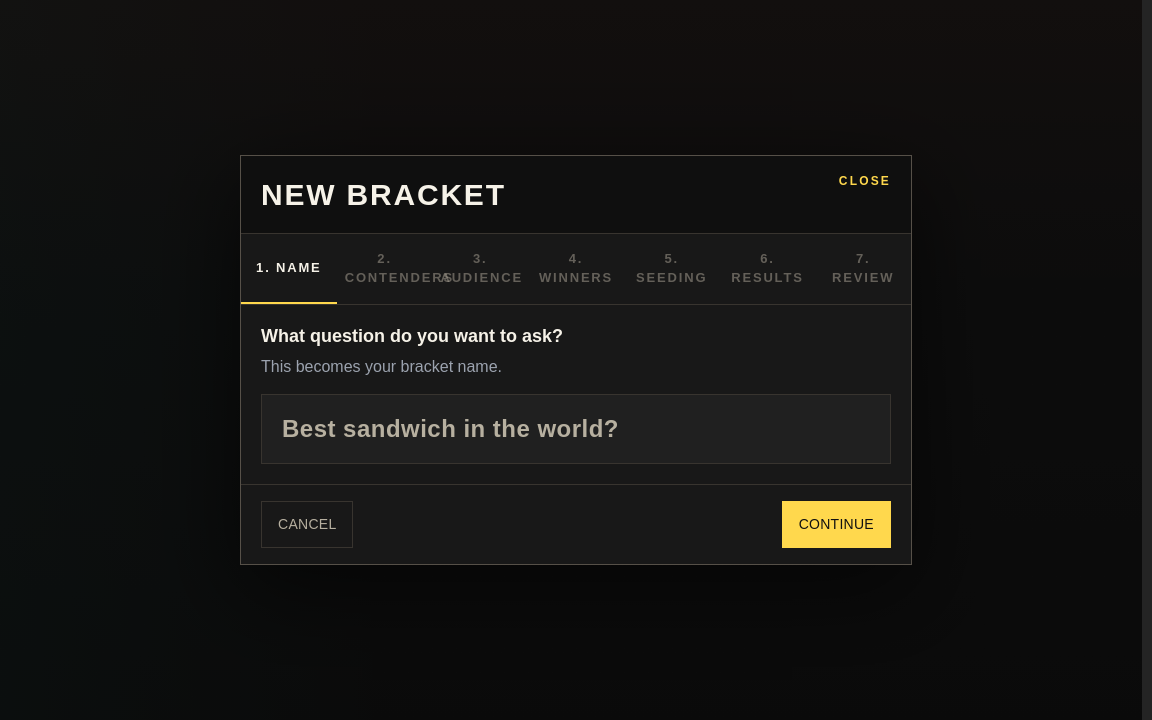
Test: bracket configuration wizard › shows voting effort estimates on the results step
This screenshot has width=1152, height=720.
Type "Dinner Finals" into the field with placeholder "Best sandwich in the world?".
click(576, 429); type("Dinner Finals")  # box [261,394,891,464]
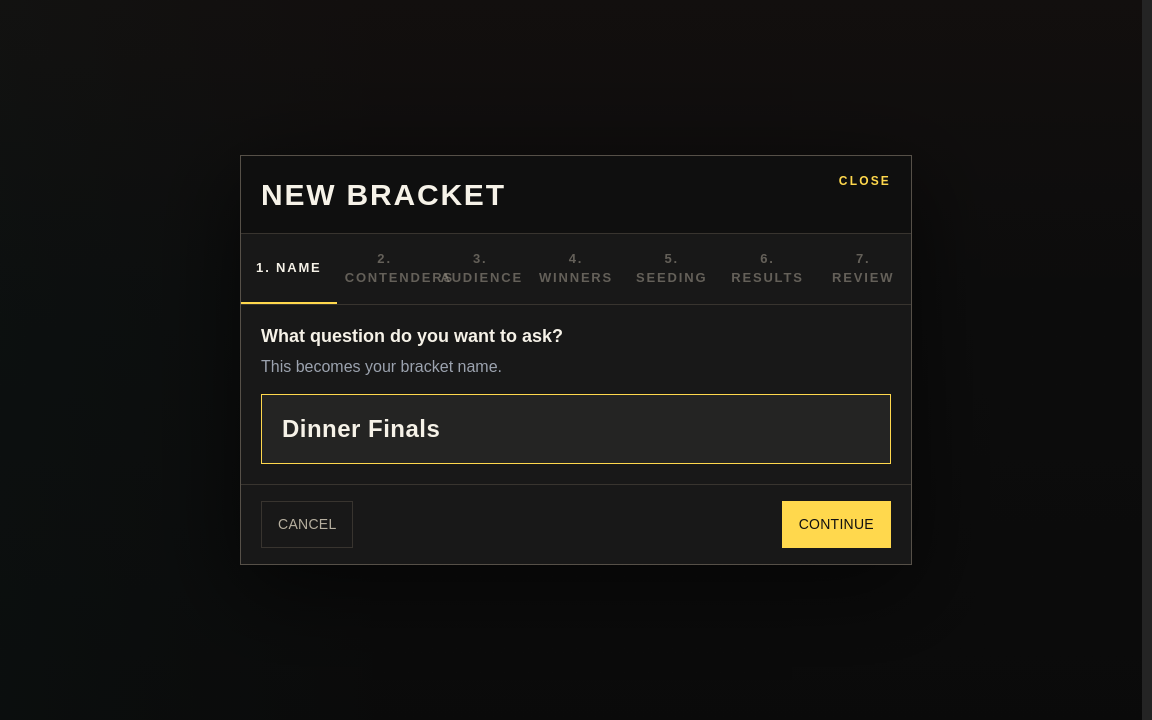
Click the button "Continue".
click(836, 524)  # box [782,501,891,548]
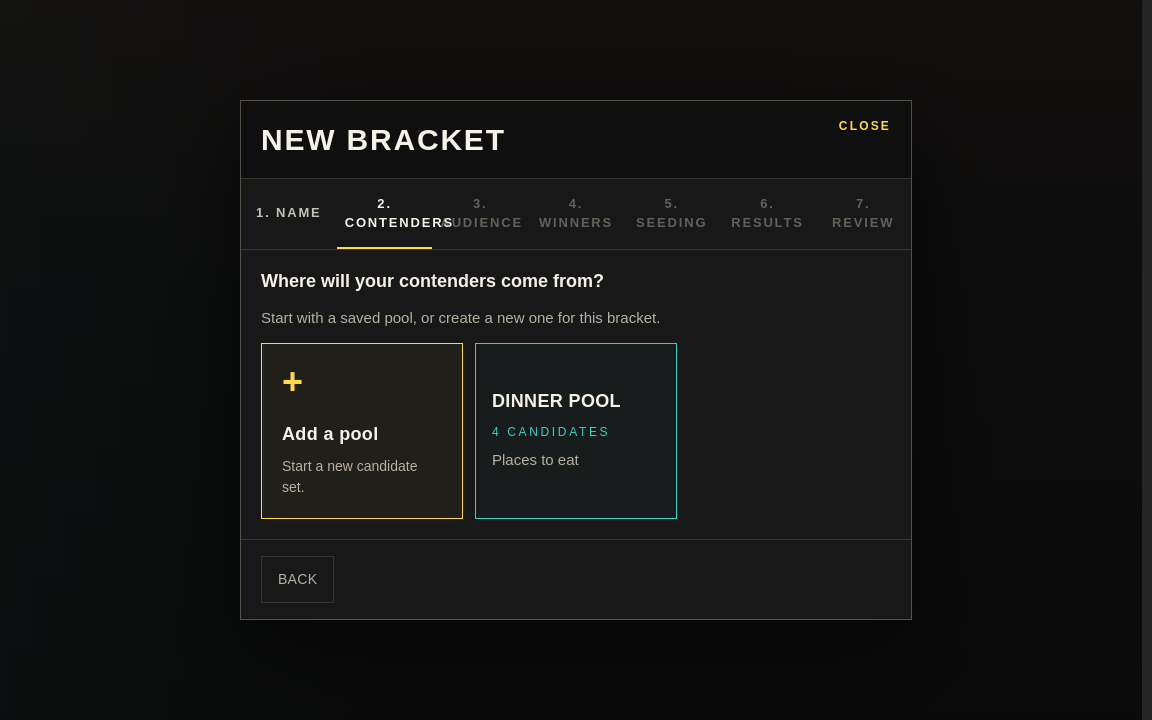
Click the button "Dinner Pool 4 candidates Places to eat".
click(576, 431)  # box [475,343,677,519]
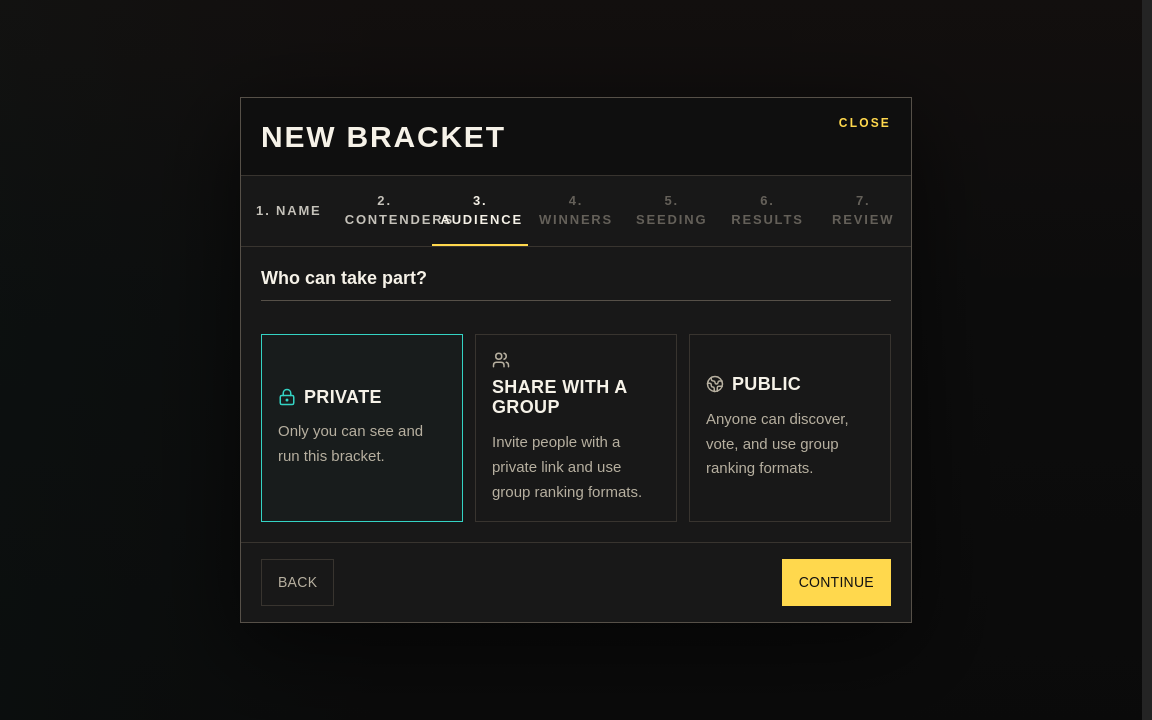
Click the button "Continue".
click(836, 582)  # box [782,559,891,606]
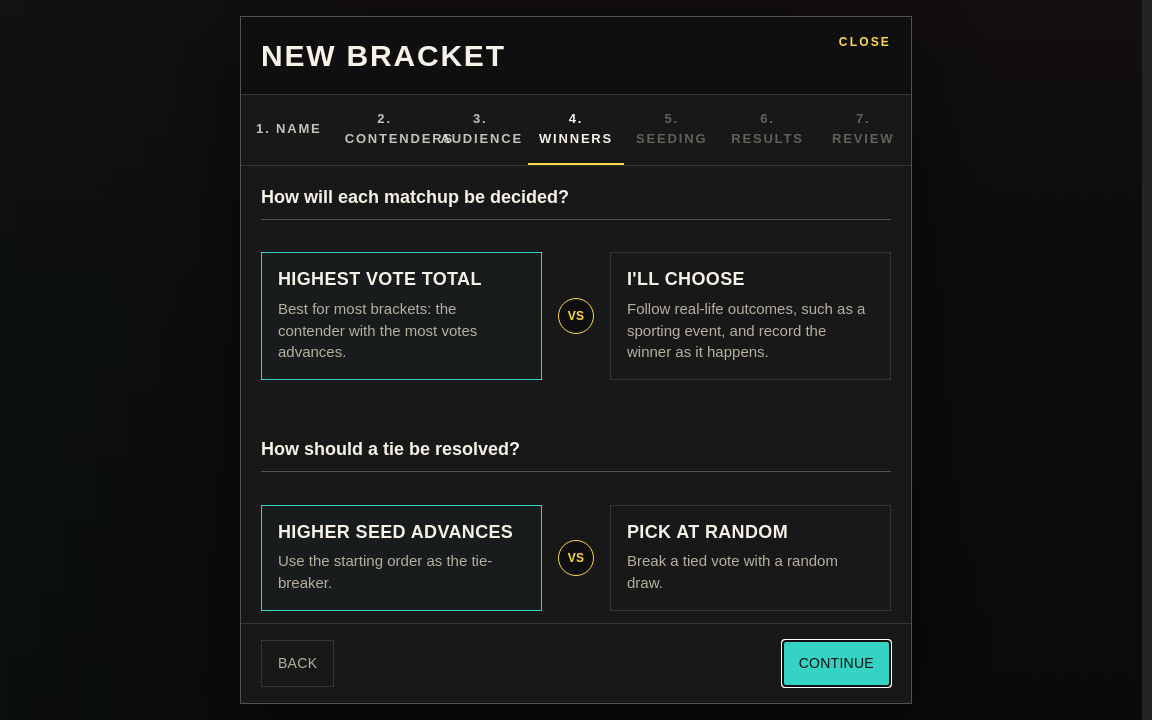
Click the button "Continue".
click(836, 664)  # box [782,640,891,687]
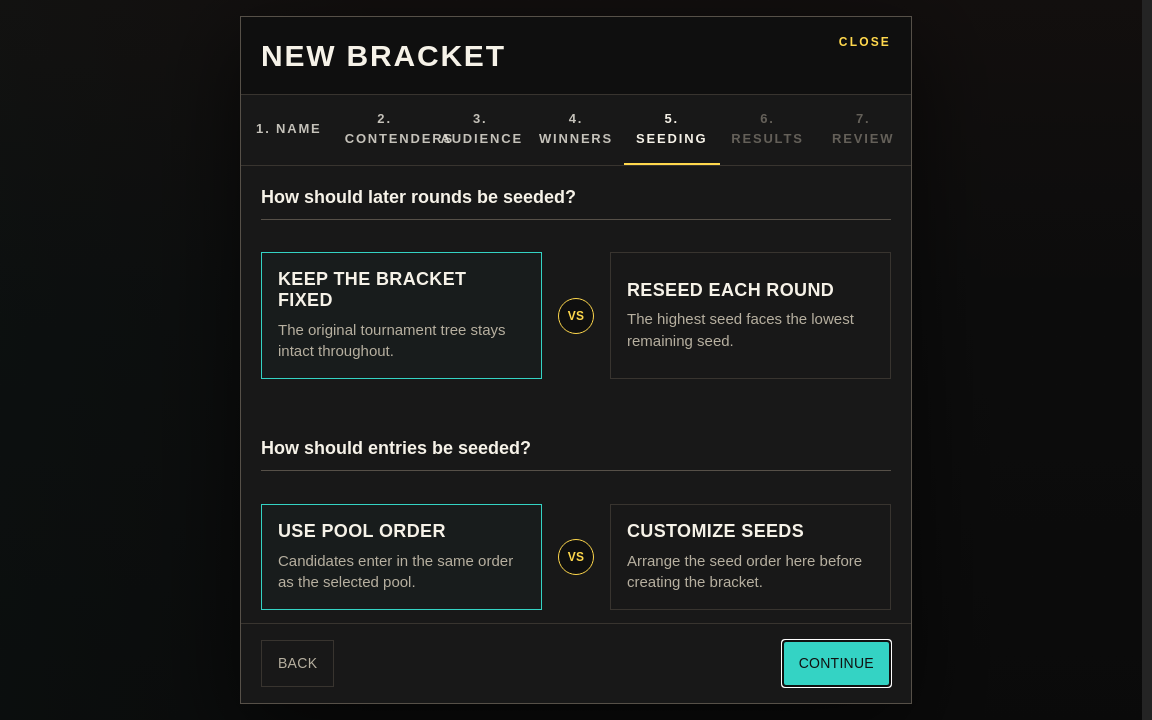
Click the button "Continue".
click(836, 664)  # box [782,640,891,687]
(page scrolled)
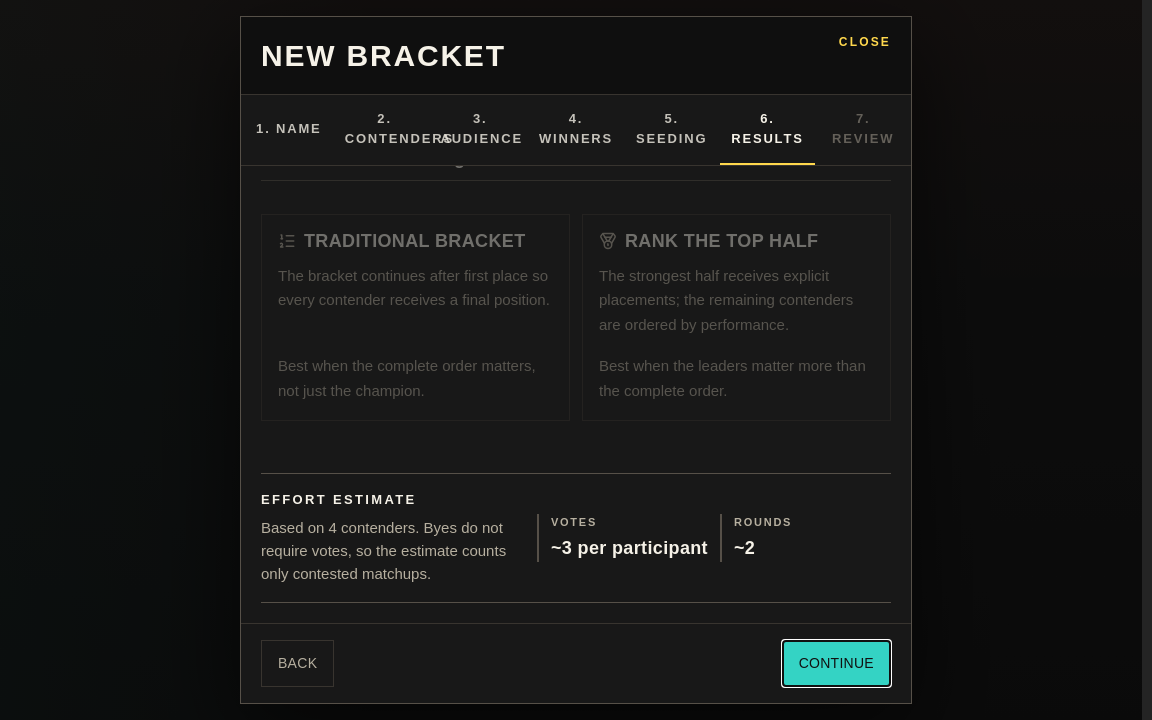
Check: the text "Effort estimate" is shown, box [261,492,416,508]
Check: the text "Based on 4 contenders. Byes do not require votes, so the estimate counts only contested matchups." is shown, box [261,519,506,582]
Check: the text "~3 per participant" is shown, box [551,535,708,562]
